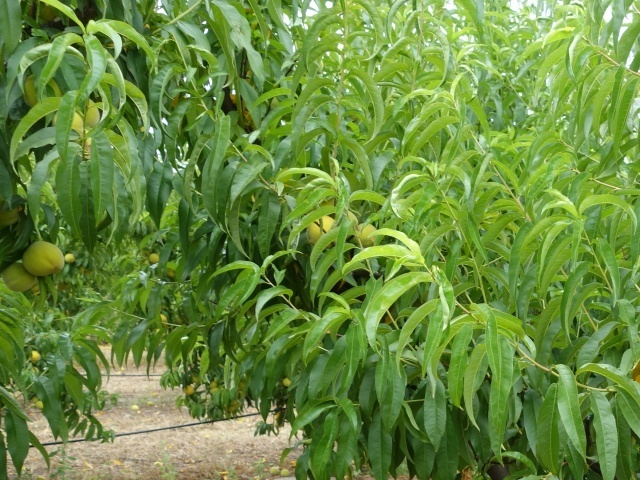peach: (22, 238, 68, 279), (18, 71, 56, 110), (2, 256, 37, 295), (305, 214, 338, 245), (347, 221, 379, 251)
